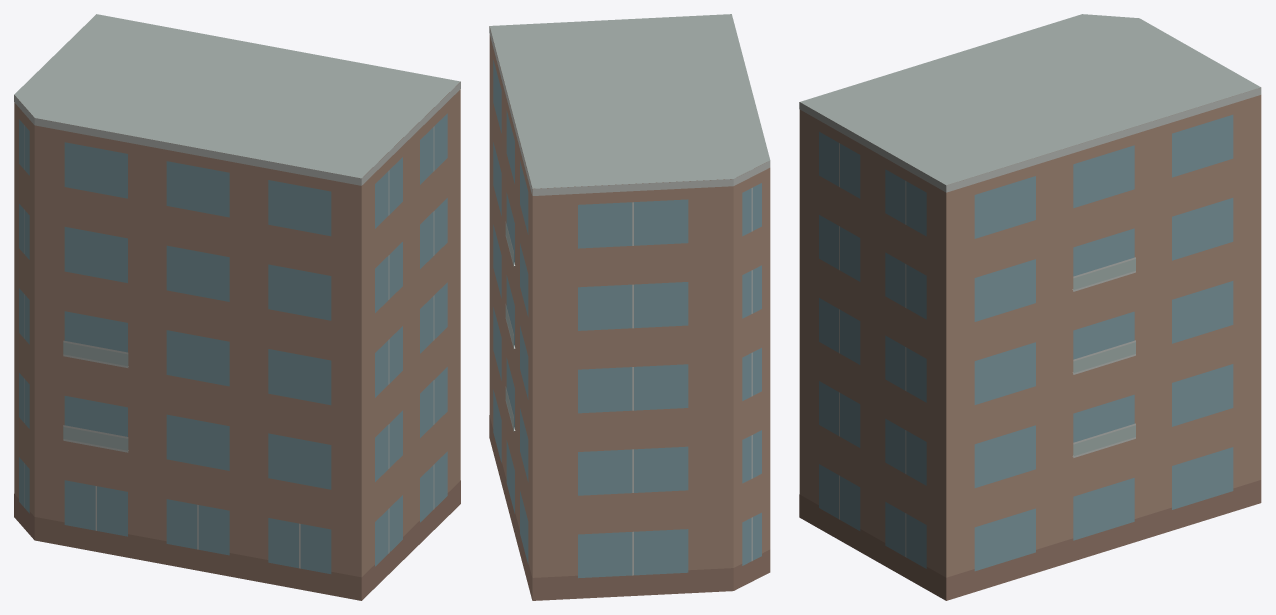
File: survey-upis-32526858.glb
3 views of the same model, side by side, from view 1: azimuth 30°, elevation 25°; view 2: azimuth 150°, elevation 25°; view 3: azimuth 270°, elevation 25° (orthographic). The views are drawn at different scales.
Visible parts, largest first — view 1: survey-upis-32526858.tmp; view 2: survey-upis-32526858.tmp; view 3: survey-upis-32526858.tmp.
Part boxes in pixels (x1,y1,x2,y2): survey-upis-32526858.tmp: (14,14,460,600); survey-upis-32526858.tmp: (489,14,770,600); survey-upis-32526858.tmp: (799,14,1261,600).
Size of the model in its own units: 12.21 by 13.8 by 13.91.
